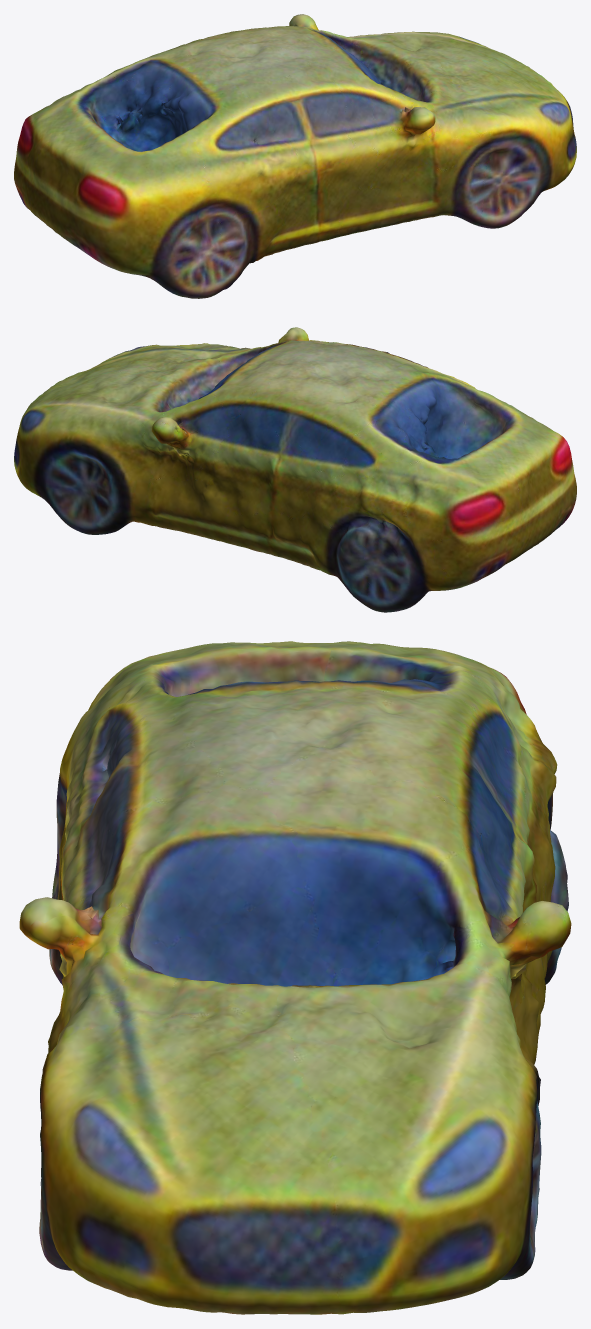
File: card_3.glb
3 views of the same model, one above another, from view 1: azimuth 30°, elevation 25°; view 2: azimuth 150°, elevation 25°; view 3: azimuth 270°, elevation 25° (orthographic). The views are drawn at different scales.
Visible parts, largest first — view 1: Mesh1; view 2: Mesh1; view 3: Mesh1.
Part boxes in pixels (box(x1,y1,x2,y2)): Mesh1: box(14, 14, 576, 298); Mesh1: box(14, 327, 576, 612); Mesh1: box(19, 641, 571, 1314).
Size of the model in its own units: 1.2 by 0.4028 by 0.5692.
1 material, 1 textured.
